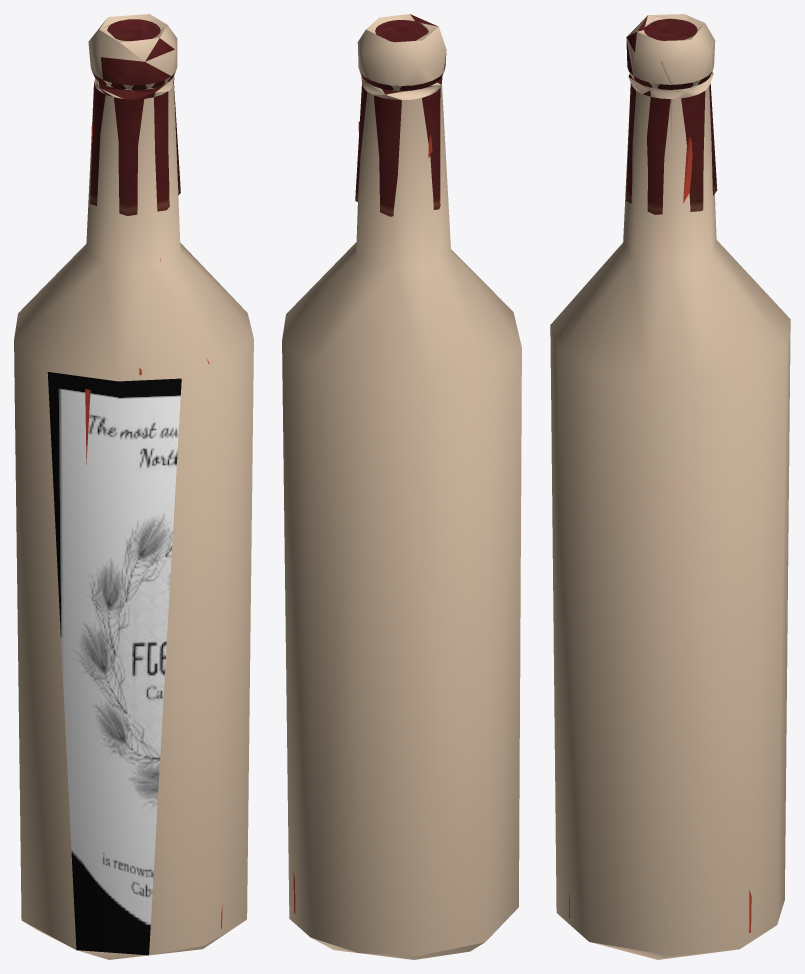
Rendered from wine_bottle.glb.
3 renders of one model, left to right at view 1: azimuth 30°, elevation 25°; view 2: azimuth 150°, elevation 25°; view 3: azimuth 270°, elevation 25°, orthographic.
Visible parts, largest first — view 1: wine_bottle; view 2: wine_bottle; view 3: wine_bottle.
Part boxes in pixels (x1,y1,x2,y2): wine_bottle: [14, 14, 253, 959]; wine_bottle: [282, 14, 521, 959]; wine_bottle: [550, 14, 790, 959].
Size of the model in its own units: 0.0724 by 0.2989 by 0.0729.
1 material, 1 textured.
